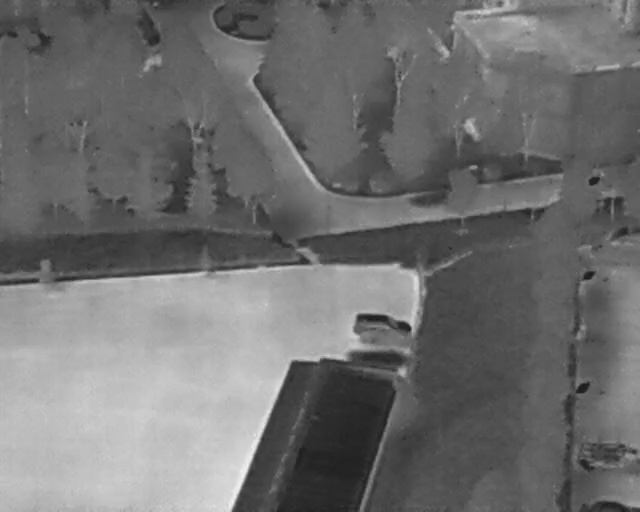Car: (351, 311, 415, 343)
